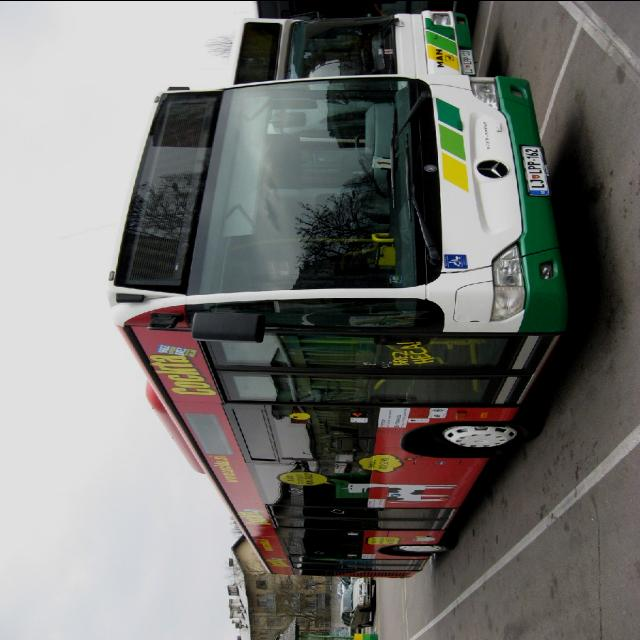bus: (101, 67, 584, 582)
